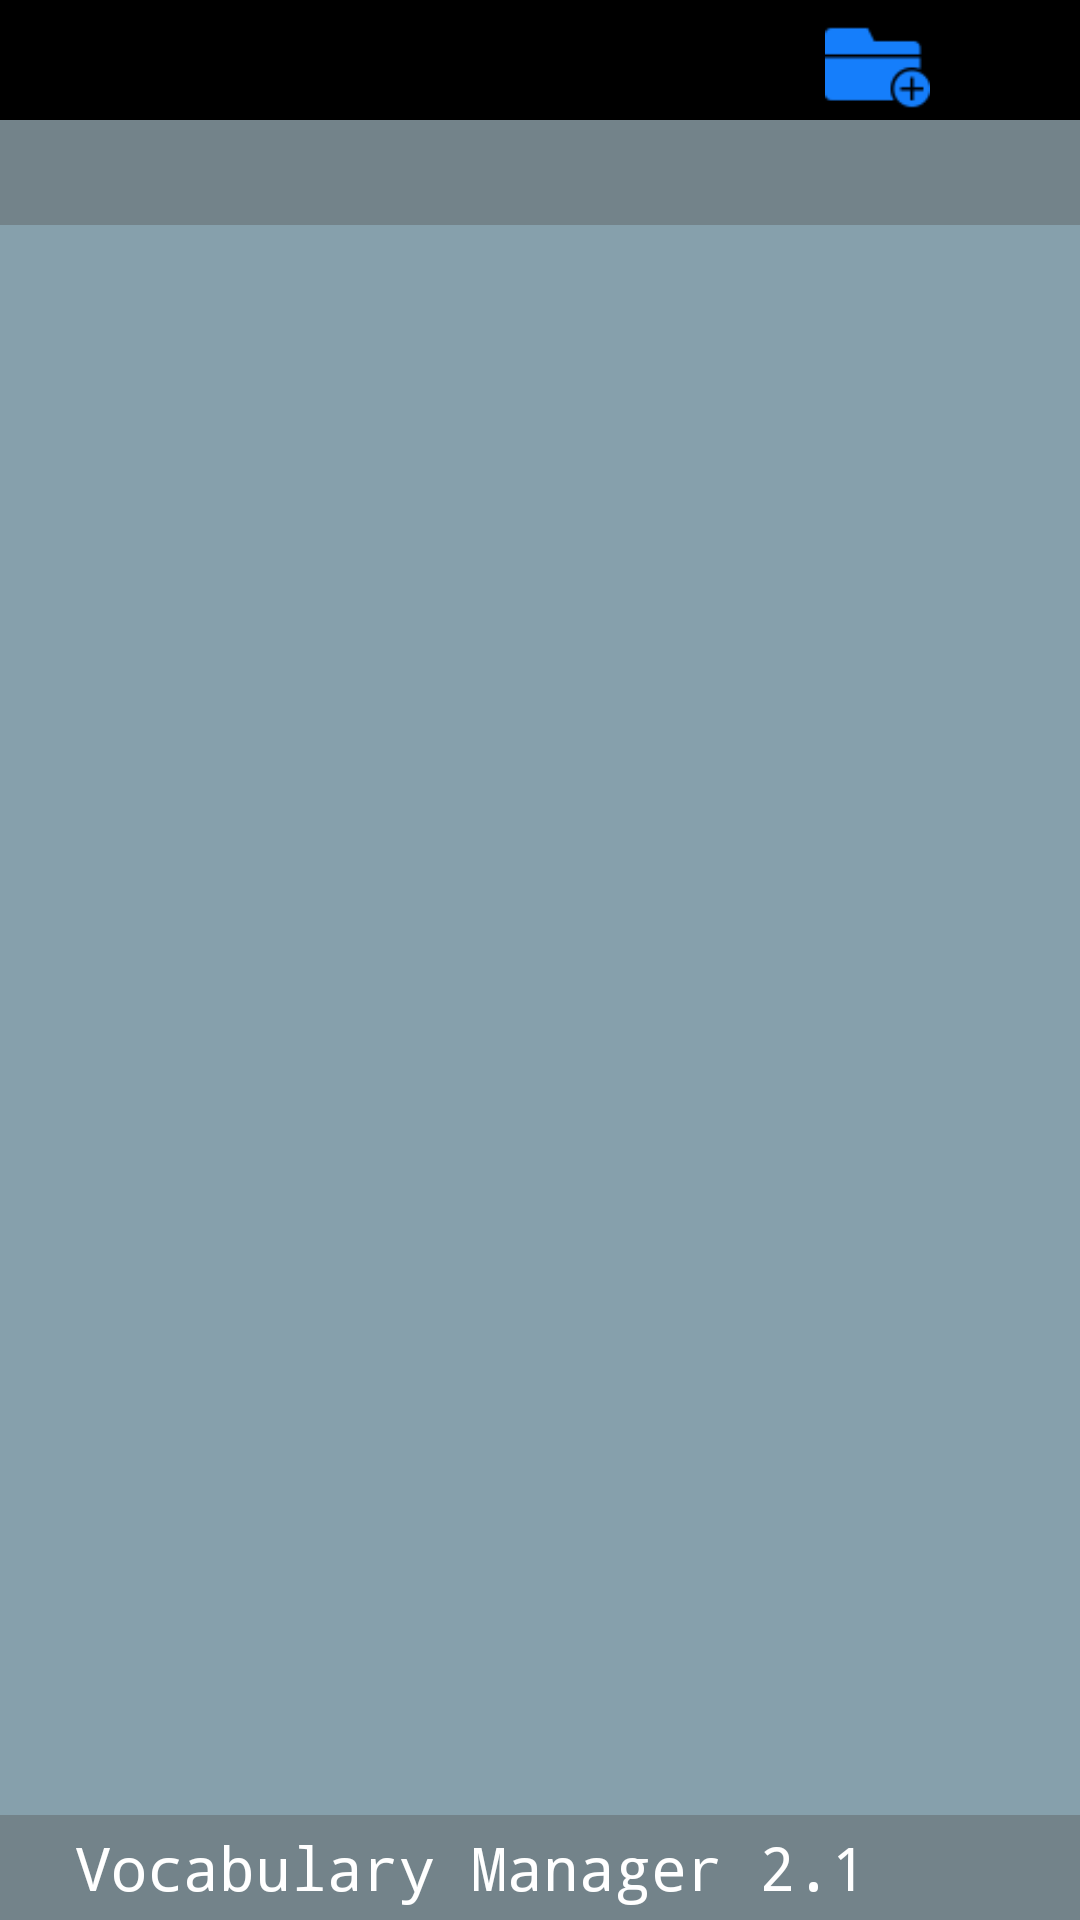

Screen size 1080px x 1920px. Icon name, then its box in pixels as (x1, y1, x2, y2):
load all from folder: (825, 27, 930, 108)
